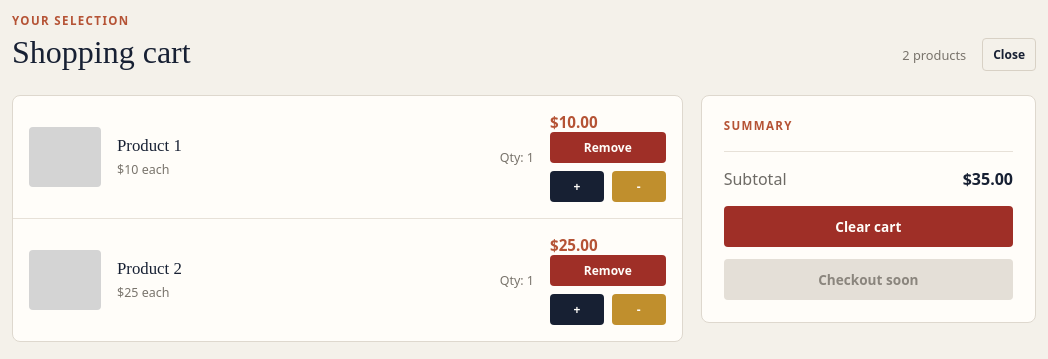
Test: Cart › clears the cart when clicking Clear cart
The width and height of the screenshot is (1048, 359).
Click the button "Clear cart" at [868, 226], box left=724, top=206, right=1013, bottom=247
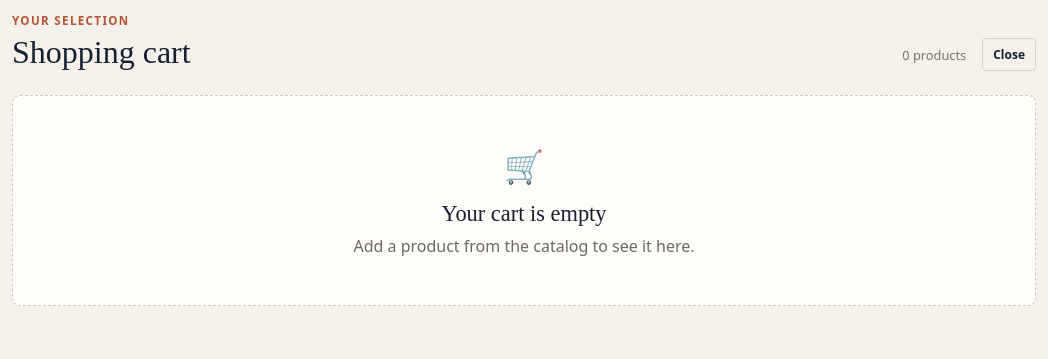
Result: the heading "Your cart is empty" is shown at left=442, top=201, right=606, bottom=226
